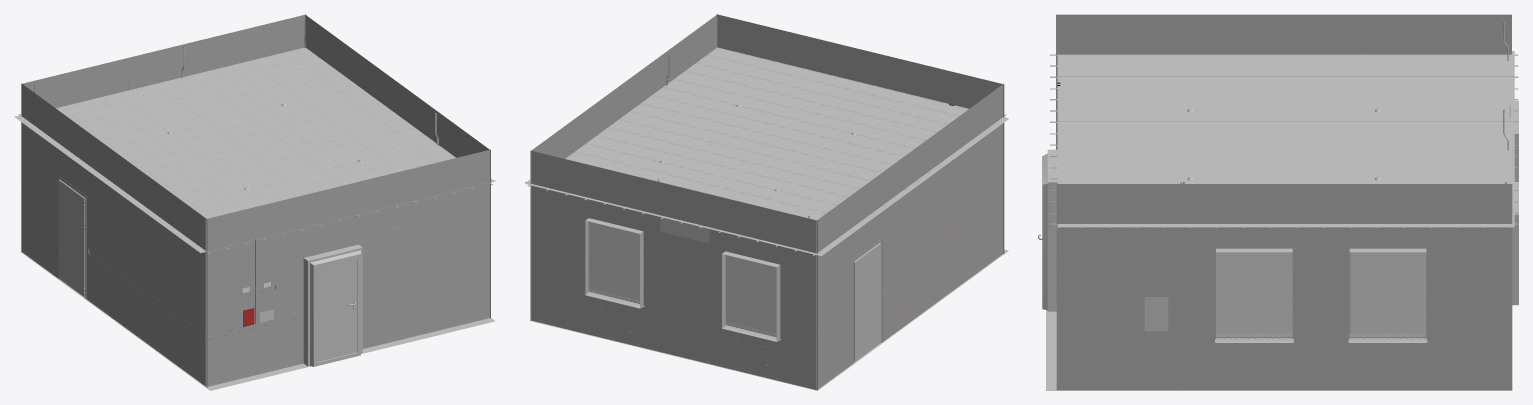
The model's file is room_dsp.fbx.
The picture shows the model from 3 angles, left to right: view 1: azimuth 30°, elevation 25°; view 2: azimuth 150°, elevation 25°; view 3: azimuth 270°, elevation 25°; orthographic projection. The views are drawn at different scales.
Parts seen in each view (by area): view 1: room_main, koridor.006, door_main.001, door_frame.008, wood.001; view 2: room_main, koridor.006, windows, conditioner_inside, wood.001; view 3: room_main, koridor.006, windows, wood.001, door_frame.008, box.
Part boxes in pixels (bbox=[...]): room_main: bbox=[21, 14, 495, 390]; koridor.006: bbox=[14, 47, 494, 253]; door_main.001: bbox=[317, 258, 357, 361]; door_frame.008: bbox=[310, 250, 360, 366]; wood.001: bbox=[18, 60, 495, 253]; room_main: bbox=[529, 14, 1008, 390]; koridor.006: bbox=[524, 47, 1009, 256]; windows: bbox=[585, 221, 781, 341]; conditioner_inside: bbox=[660, 217, 709, 242]; wood.001: bbox=[525, 55, 1006, 255]; room_main: bbox=[1046, 14, 1518, 390]; koridor.006: bbox=[1057, 51, 1514, 227]; windows: bbox=[1215, 252, 1517, 342]; wood.001: bbox=[1050, 54, 1518, 227]; door_frame.008: bbox=[1042, 153, 1047, 310]; box: bbox=[1144, 297, 1168, 331].
Bounding box in the file's own units: 6.47 × 3.53 × 7.44.
